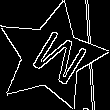M_SW: (17, 23, 84, 90)
